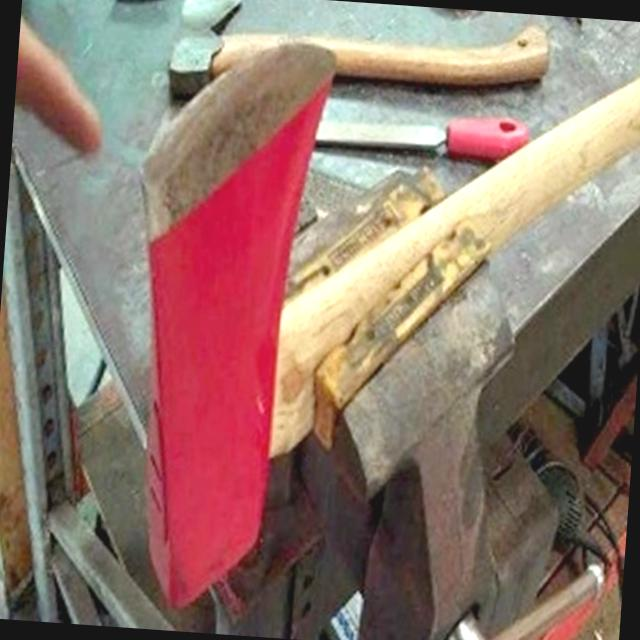ax: (91, 13, 640, 640)
